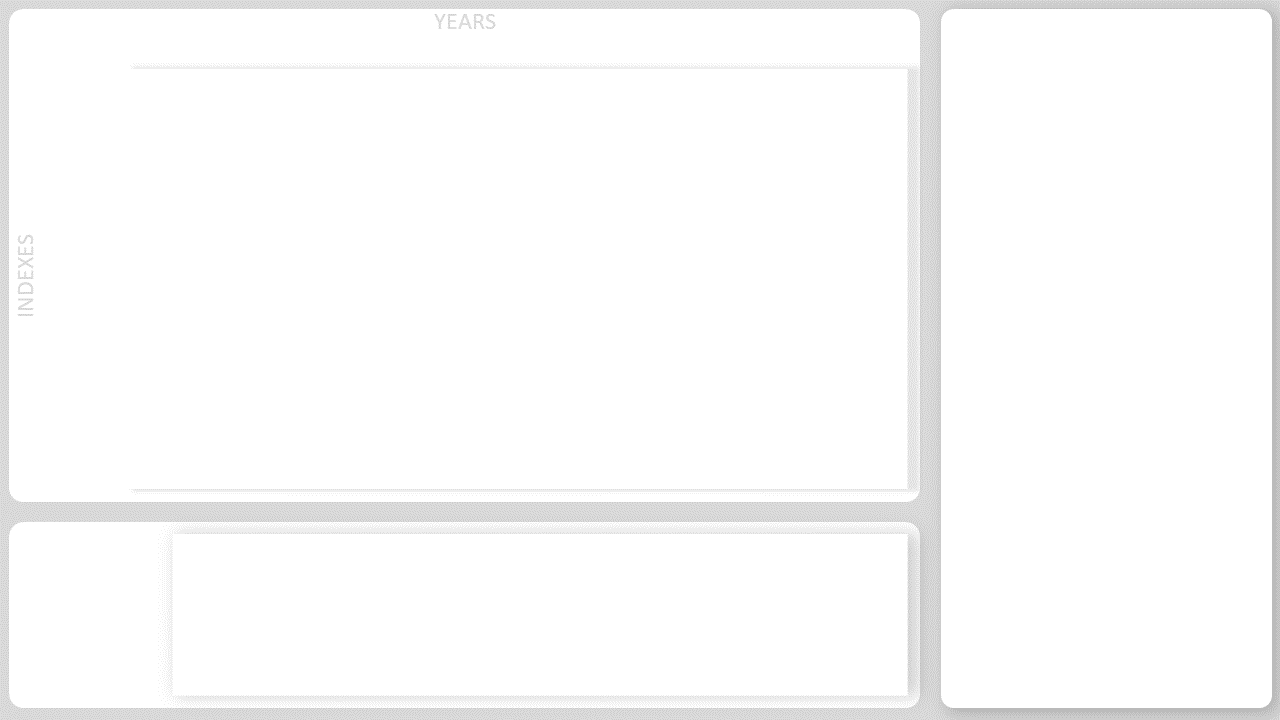

The dashboard page shown, as its layout file describes it:
{"tool":"powerbi","page":{"name":"Page 1","canvas":[1920,1080],"ordinal":0},"visuals":[{"type":"slicer","fields":{"Values":["Year.Year"]},"box":[36.8,43.4,1341.8,50],"z":0},{"type":"slicer","fields":{"Values":["Category.Category"]},"box":[36.8,94.7,165.7,644.6],"z":1000},{"type":"lineChart","fields":{"Y":["_Measures.AVG Category"],"Category":["Year.Year"],"Y2":["_Measures.STDEV Category"]},"box":[264.4,803.8,1083.9,235.5],"z":2000},{"type":"card","fields":{"Values":["_Measures.AVG Category"]},"box":[36.5,836,197.3,72.4],"z":3000},{"type":"filledMap","fields":{"Category":["All.Country"]},"box":[193.4,103.9,1166.8,630.1],"z":4000},{"type":"scatterChart","fields":{"Category":["All.Country"],"X":["_Measures.STDEV Category"],"Y":["_Measures.AVG Category"]},"box":[1422,27.6,447.3,1020.8],"z":5000},{"type":"card","fields":{"Values":["_Measures.Average Title"]},"box":[13.6,809,159.2,51.3],"z":6000},{"type":"card","fields":{"Values":["_Measures.STDEV Category"]},"box":[36.5,957.7,197.3,72.4],"z":7000},{"type":"card","fields":{"Values":["_Measures.STDEV Title"]},"box":[14.9,931.4,139.4,51.3],"z":8000}]}

Visuals, with their boxes in screenshot pixels (x1, y1, x2, y2), scaled from the page's 1920x1080 canvas onto the 1280x720 screenshot:
slicer - Year.Year: <region>25, 29, 919, 62</region>
slicer - Category.Category: <region>25, 63, 135, 493</region>
lineChart - _Measures.AVG Category x Year.Year: <region>176, 536, 899, 693</region>
card - _Measures.AVG Category: <region>24, 557, 156, 606</region>
filledMap - All.Country: <region>129, 69, 907, 489</region>
scatterChart - All.Country x _Measures.STDEV Category: <region>948, 18, 1246, 699</region>
card - _Measures.Average Title: <region>9, 539, 115, 574</region>
card - _Measures.STDEV Category: <region>24, 638, 156, 687</region>
card - _Measures.STDEV Title: <region>10, 621, 103, 655</region>
